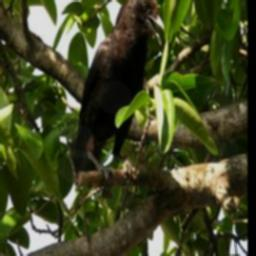Crow: (71, 0, 169, 188)
